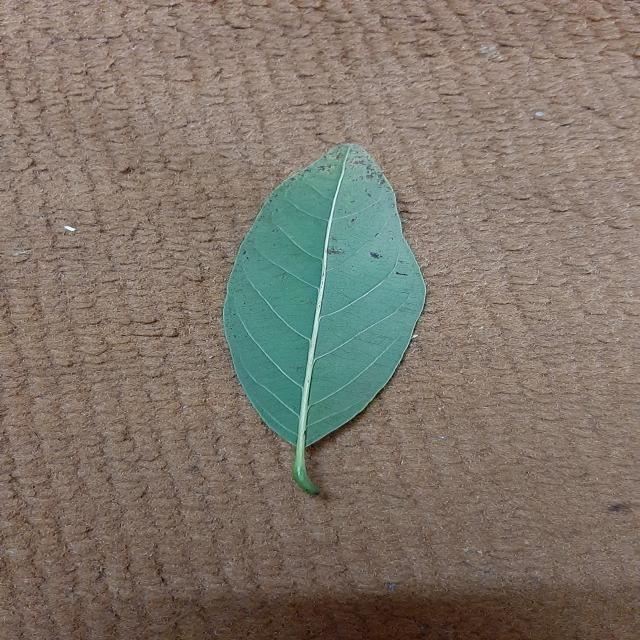seethaphala: (222, 144, 425, 495)
